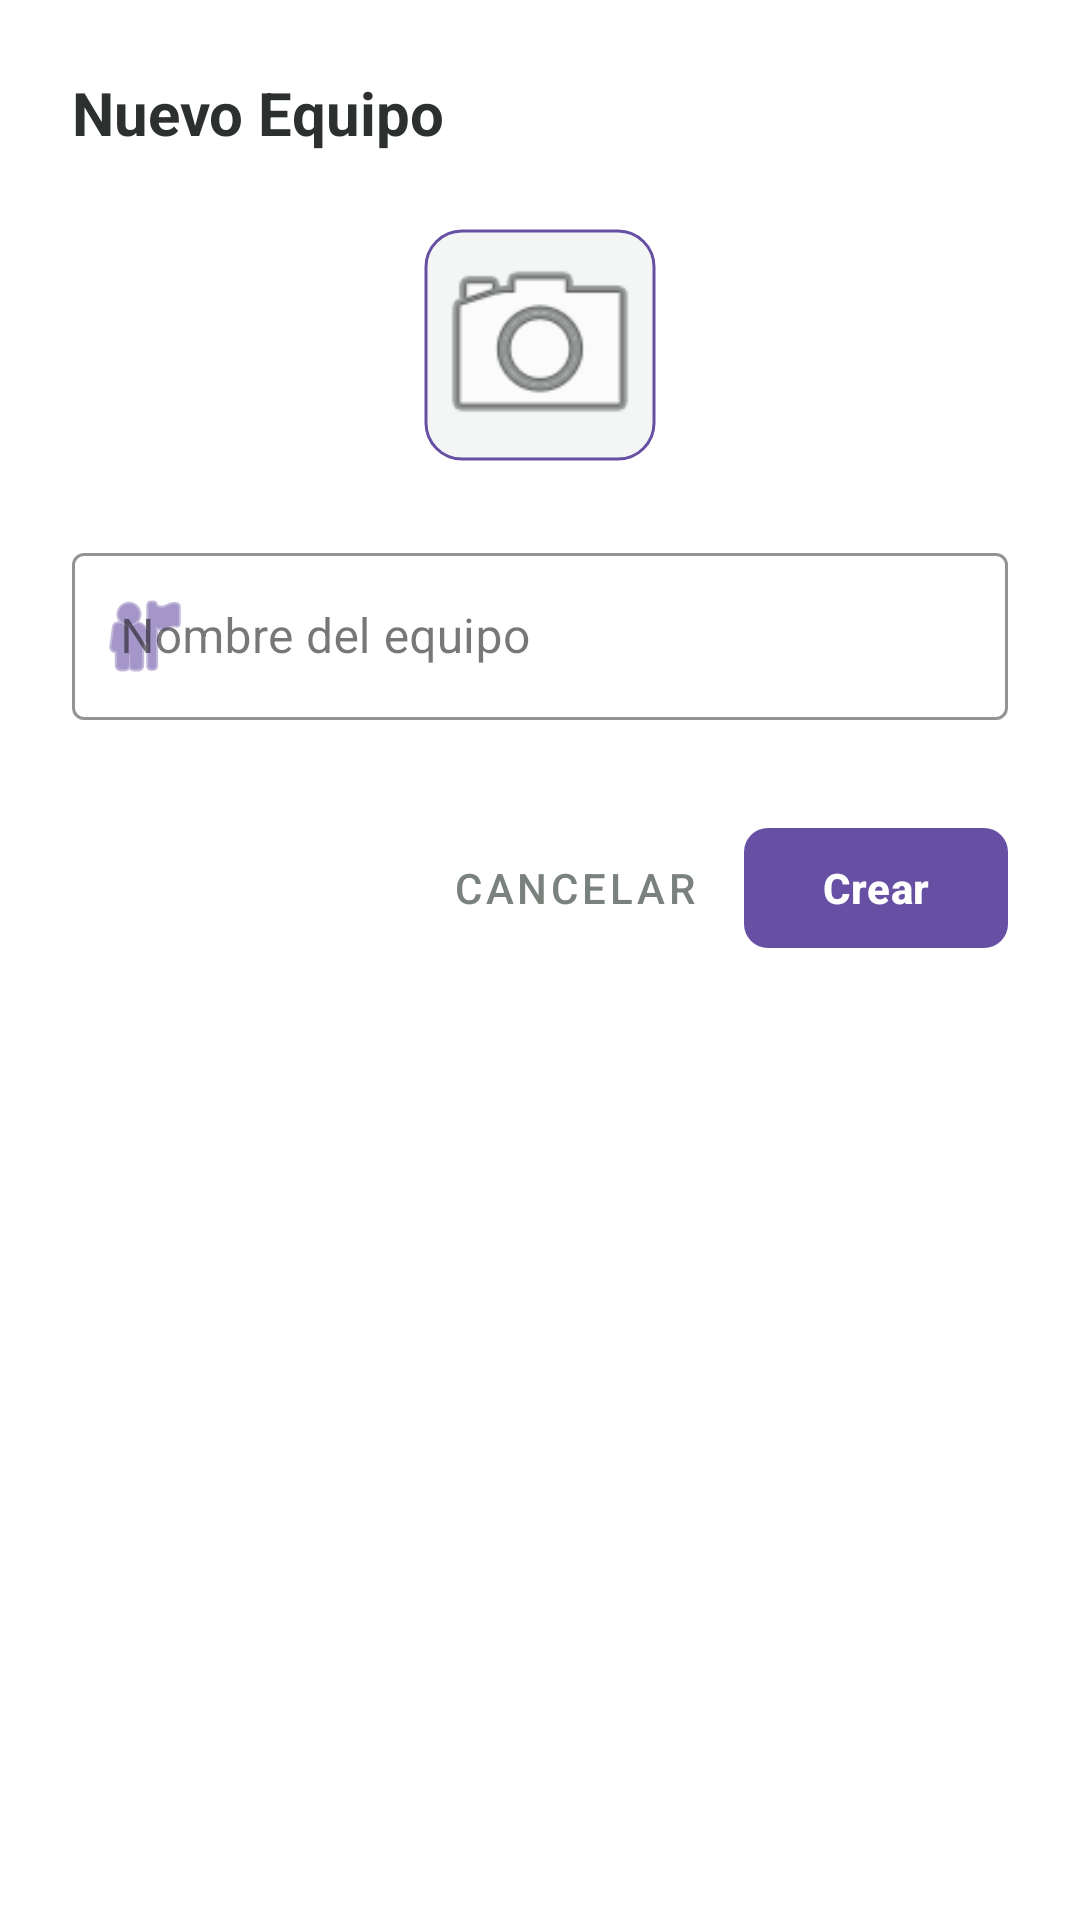

Named icons in this screenshot (1080×1920) and their centers, (x=x, y=y):
camera: (x=540, y=345)
